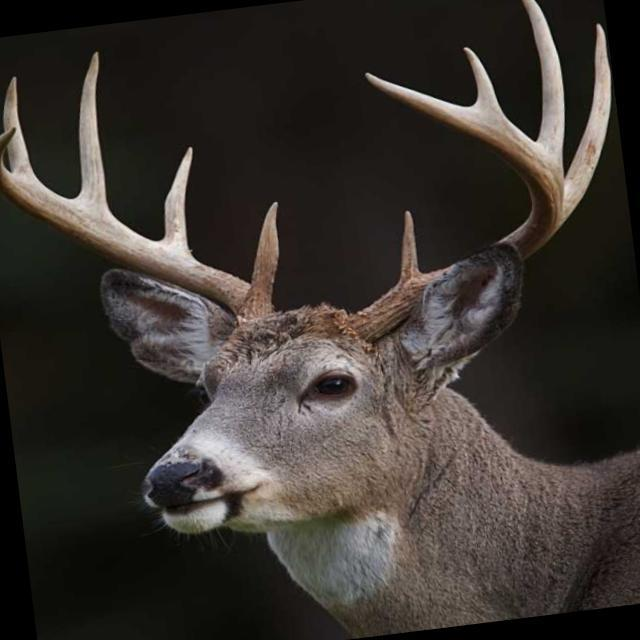L-G1: (398, 209, 424, 282)
L-G2: (563, 22, 612, 221)
L-G3: (520, 0, 564, 166)
L-G4: (462, 46, 502, 112)
R-G1: (247, 201, 278, 303)
R-G2: (161, 146, 192, 254)
R-G3: (78, 51, 108, 208), (3, 75, 34, 175)
